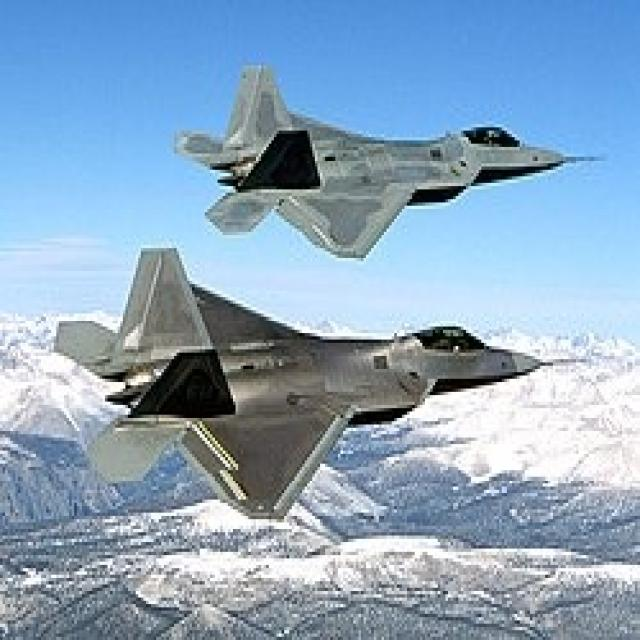F22: (38, 216, 594, 543), (132, 49, 613, 270)
